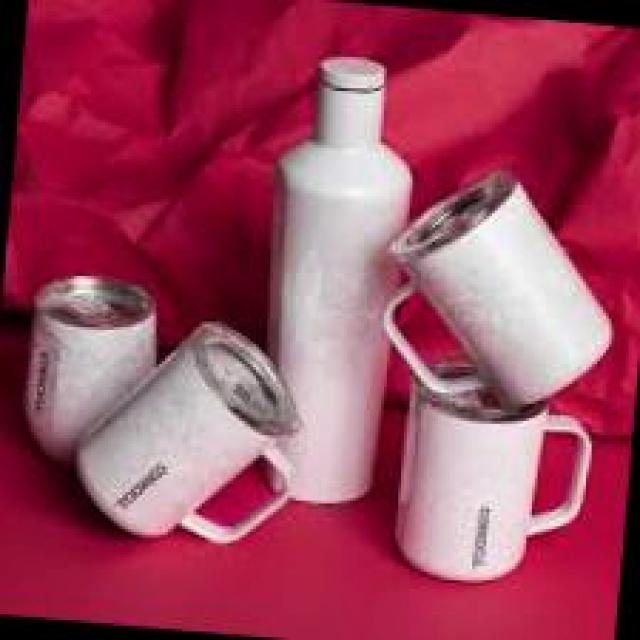bottle: (246, 51, 422, 509), (370, 161, 623, 431), (66, 310, 308, 555), (387, 360, 597, 593), (18, 272, 164, 470)
